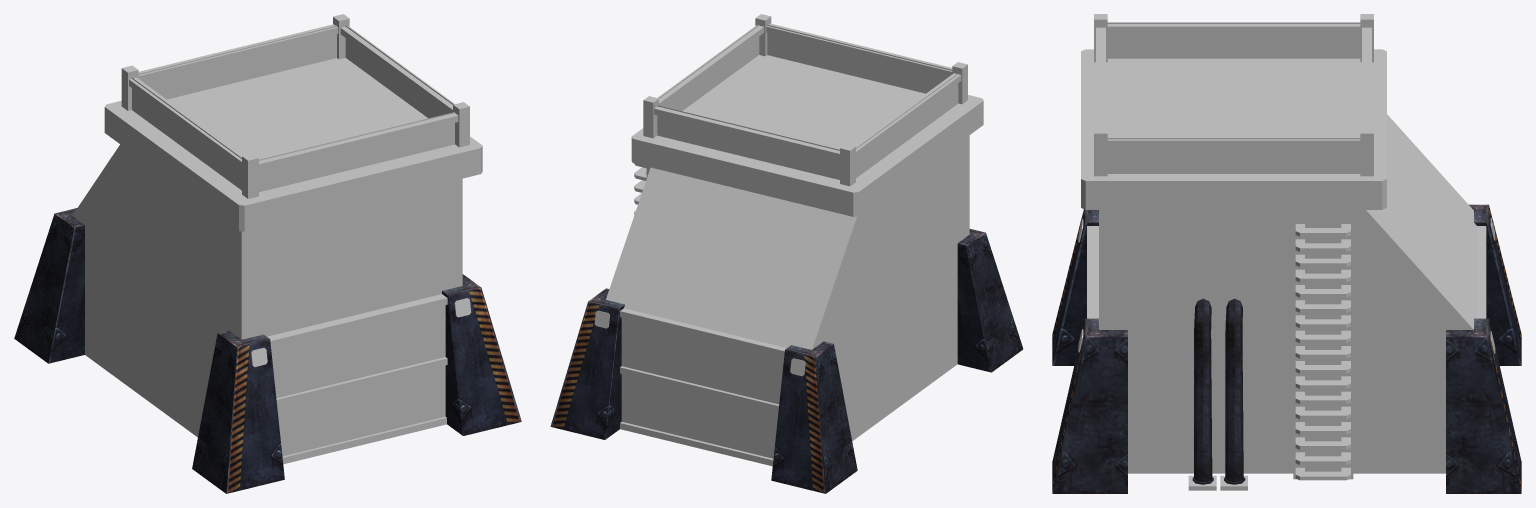
Rendered from BraCamp004.FBX.
3 renders of one model, left to right at view 1: azimuth 30°, elevation 25°; view 2: azimuth 150°, elevation 25°; view 3: azimuth 270°, elevation 25°, orthographic. The views are drawn at different scales.
Parts seen in each view (by area): view 1: BraCamp004; view 2: BraCamp004; view 3: BraCamp004.
Part boxes in pixels (x1=…): BraCamp004: x1=14, y1=14, x2=521, y2=493; BraCamp004: x1=550, y1=14, x2=1023, y2=493; BraCamp004: x1=1052, y1=14, x2=1521, y2=493.
Bounding box in the file's own units: 1189 × 1190 × 1478.
